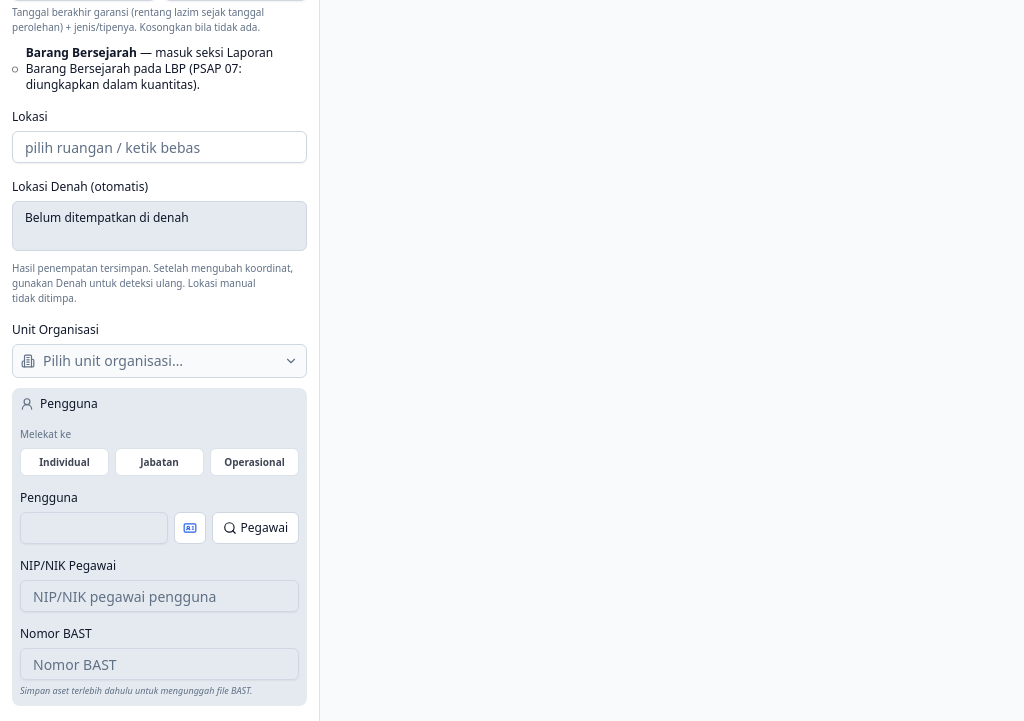
it: mengosongkan pilihan MENGHAPUS jalur eselonnya
(page scrolled)
Step 1. Click the button with test id "asset-unit-pemicu" → (160, 361), box [12,344,307,378]
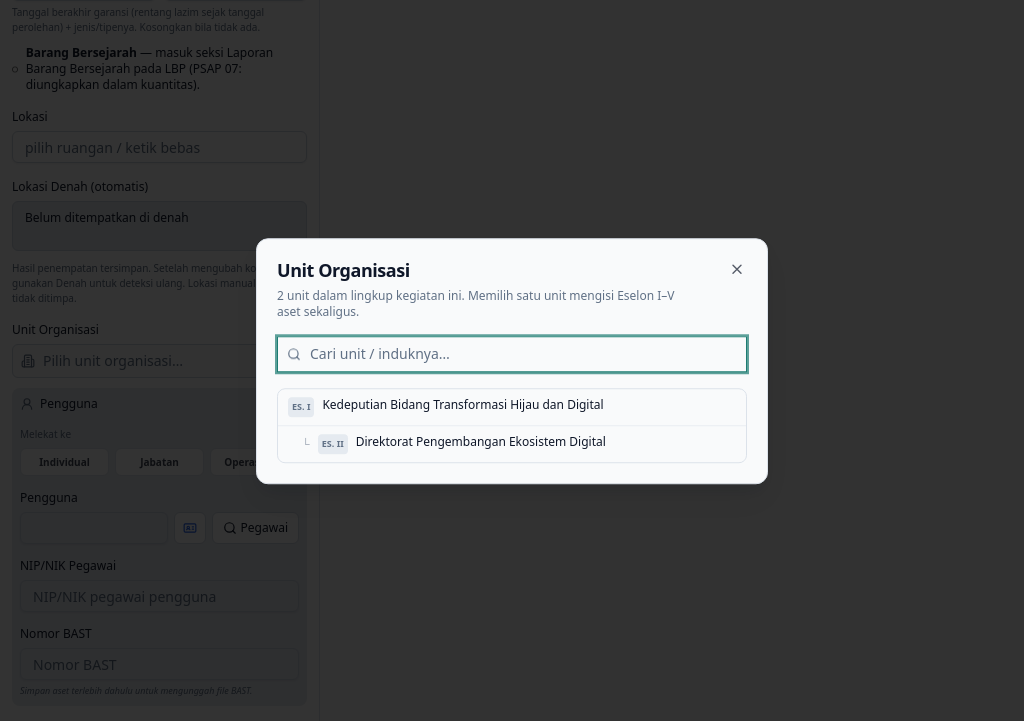
Step 2. Click the button with test id "asset-unit-opsi-d22" → (512, 443), box [278,425,746,462]
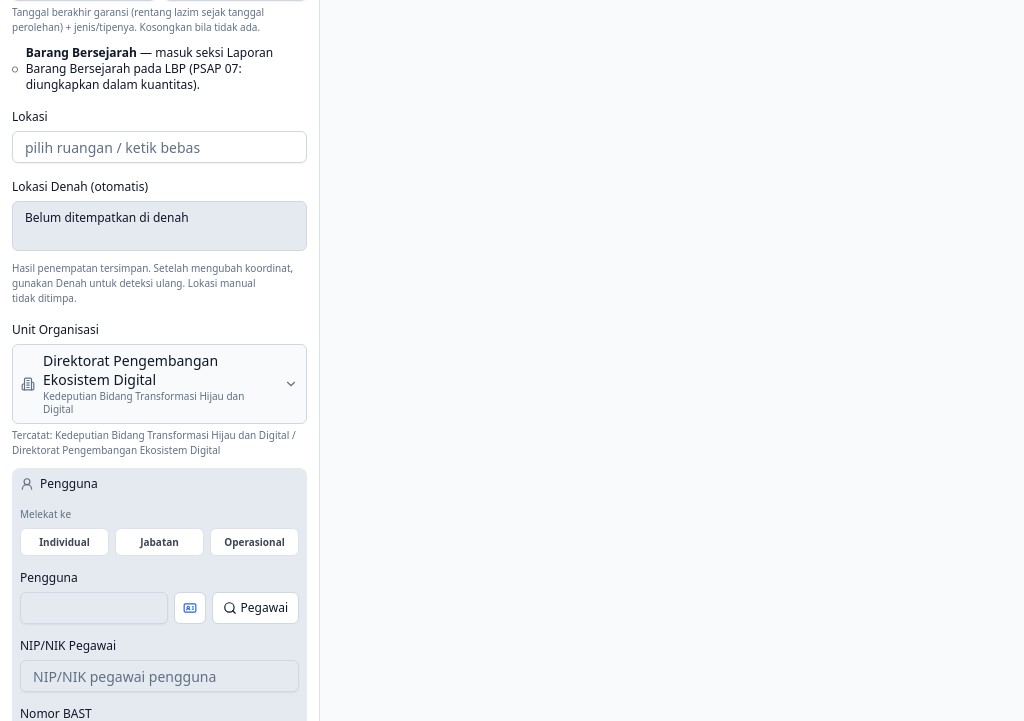
Expected: the text with test id "asset-unit-tercatat" is shown, [12,428,307,458]
Step 3. Click the button with test id "asset-unit-pemicu" → (131, 360), box [12,344,307,424]
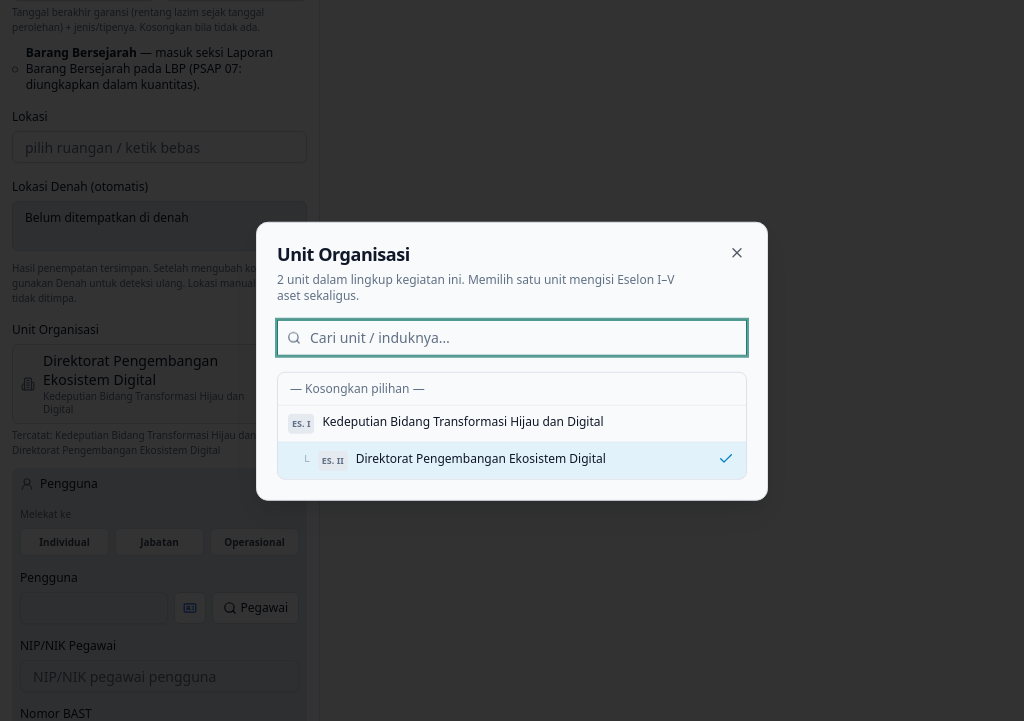
Step 4. Click the button with test id "asset-unit-kosongkan" → (357, 388), box [278,372,746,404]
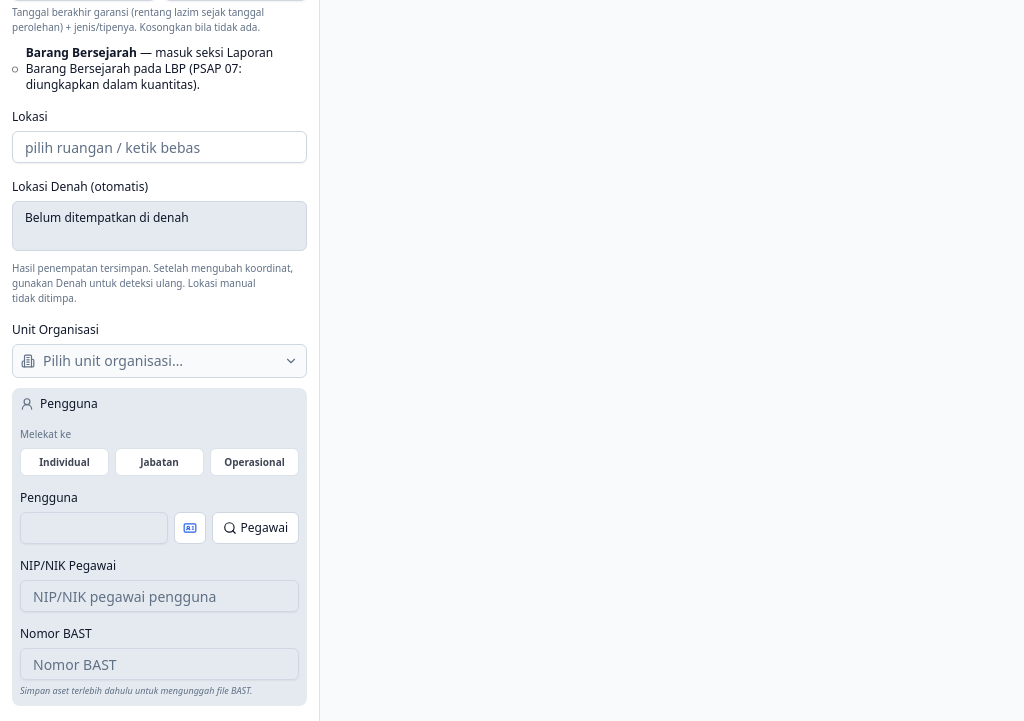
Expected: the text with test id "asset-unit-tercatat" is gone
